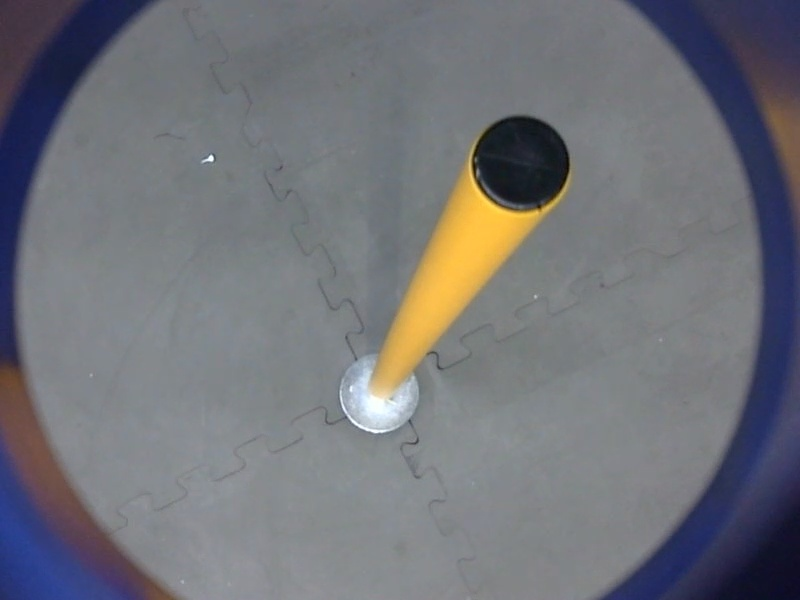tip: (466, 109, 579, 221)
